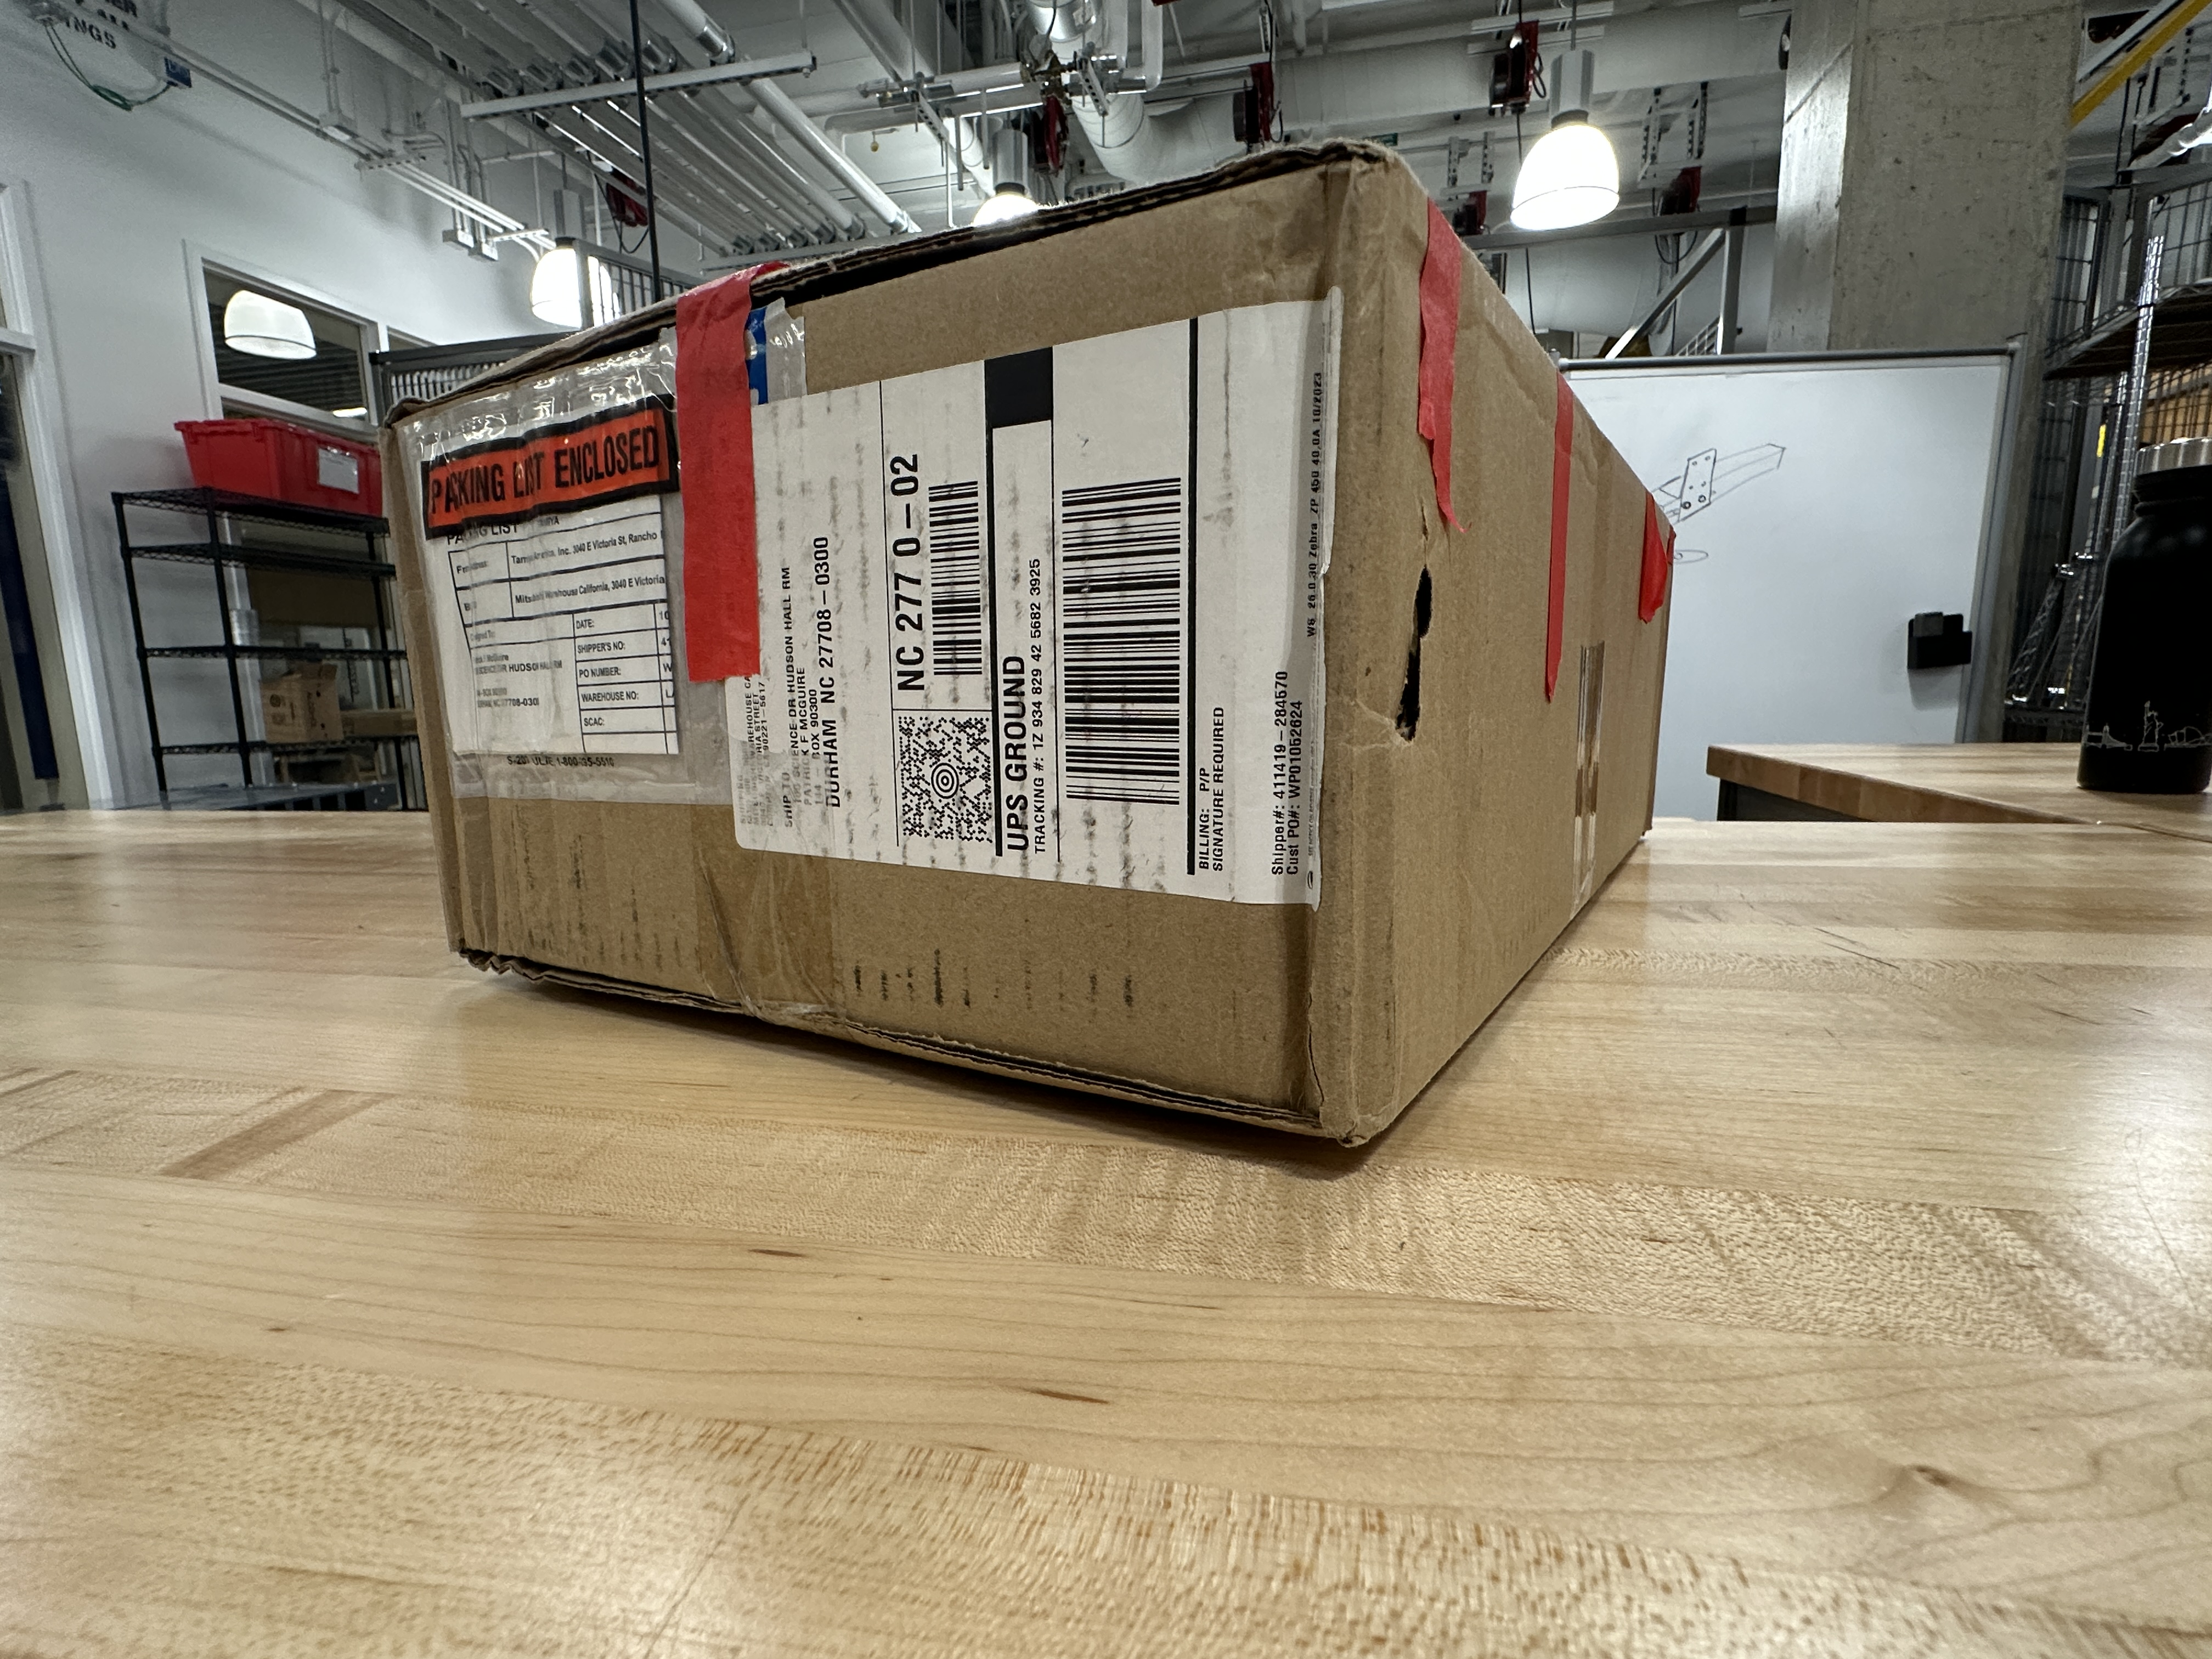Box_Obstacle: (359, 131, 1683, 1168)
